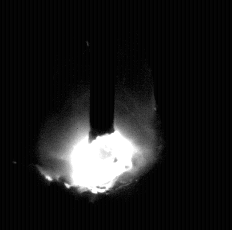arame: (89, 0, 115, 143)
poca: (38, 0, 162, 230)
